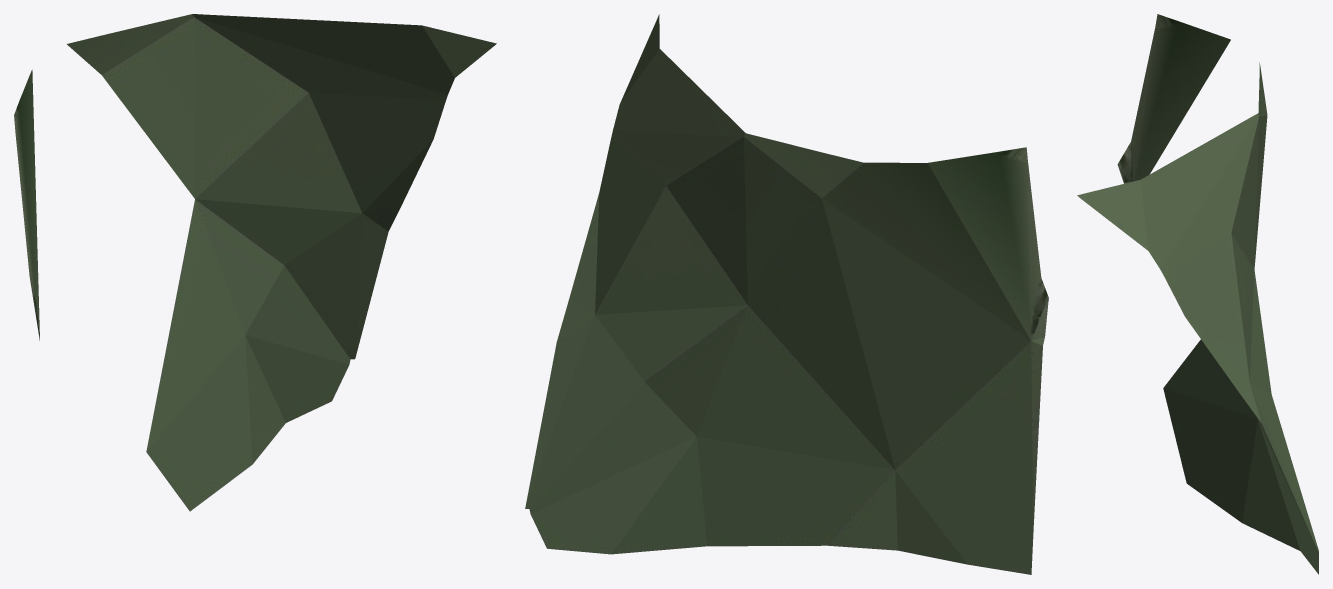
The picture shows the model from 3 angles, left to right: view 1: azimuth 30°, elevation 25°; view 2: azimuth 150°, elevation 25°; view 3: azimuth 270°, elevation 25°; orthographic projection. The views are drawn at different scales.
Size of the model in its own units: 5.9 by 5.9 by 3.32.
3 materials, 3 textured.
